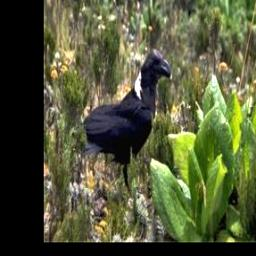Crow: (82, 46, 172, 193)
